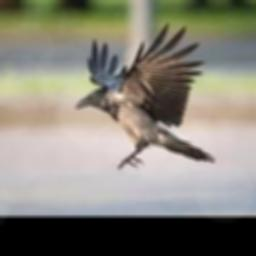Crow: (76, 22, 217, 169)
